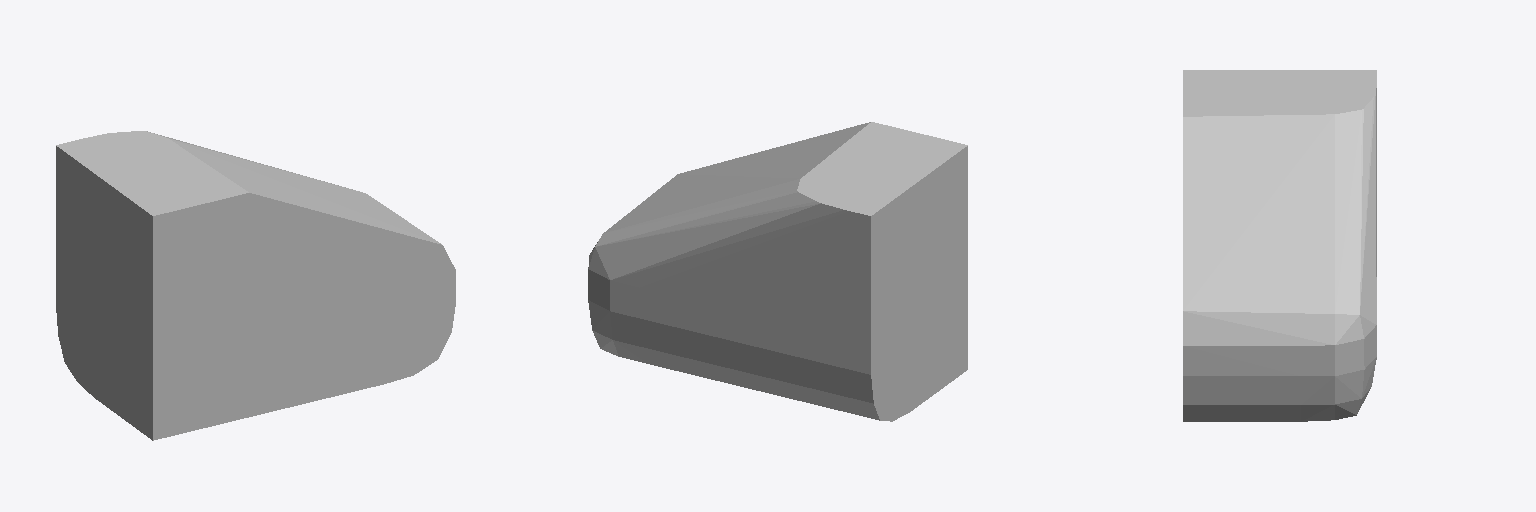
The model's file is block_2_collision_10.obj.
3 views of the same model, side by side, from view 1: azimuth 30°, elevation 25°; view 2: azimuth 150°, elevation 25°; view 3: azimuth 270°, elevation 25° (orthographic).
Size of the model in its own units: 0.0164 by 0.0116 by 0.0091.